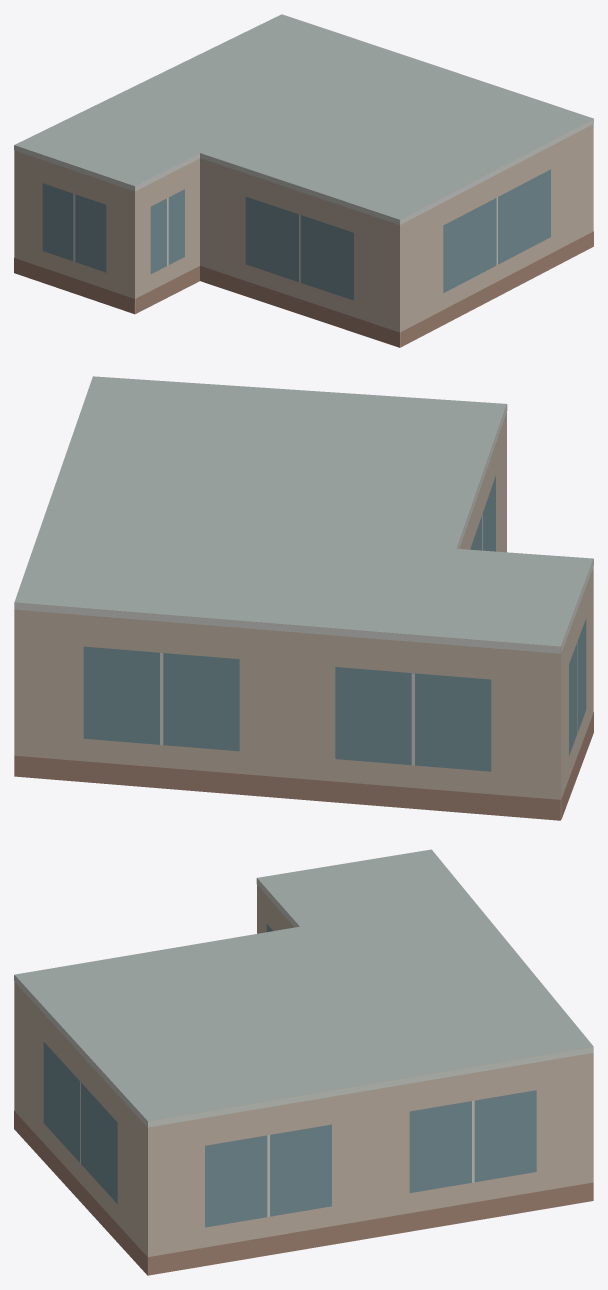
The model's file is survey-upis-32571432.glb.
The picture shows the model from 3 angles, top to bottom: view 1: azimuth 30°, elevation 25°; view 2: azimuth 150°, elevation 25°; view 3: azimuth 270°, elevation 25°; orthographic projection. The views are drawn at different scales.
Parts seen in each view (by area): view 1: survey-upis-32571432.tmp; view 2: survey-upis-32571432.tmp; view 3: survey-upis-32571432.tmp.
Part boxes in pixels (x1,y1,x2,y2): survey-upis-32571432.tmp: (14,14,593,347); survey-upis-32571432.tmp: (14,376,593,820); survey-upis-32571432.tmp: (14,849,593,1275).
Size of the model in its own units: 11.53 by 3.05 by 10.39.
